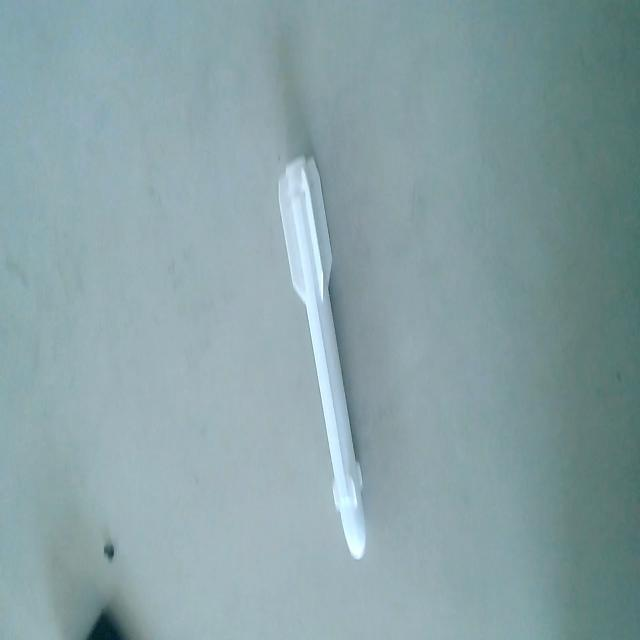Rocket: (276, 152, 369, 566)
